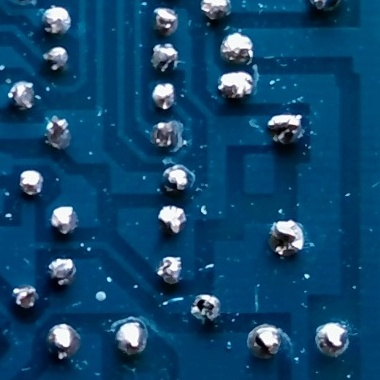?: (269, 112, 306, 149), (47, 258, 78, 288), (165, 161, 195, 189)
drag: (316, 321, 351, 355), (152, 38, 181, 74), (155, 204, 188, 235), (44, 116, 72, 152), (154, 6, 181, 36), (15, 284, 39, 309)
little: (270, 217, 307, 255), (148, 119, 184, 151), (192, 294, 222, 325), (157, 255, 185, 284), (198, 0, 232, 20)
norm: (45, 322, 82, 363), (115, 319, 149, 355), (251, 326, 285, 357), (8, 81, 37, 114), (44, 5, 72, 37), (150, 83, 179, 113), (19, 169, 45, 195)
tip: (219, 30, 254, 63), (218, 71, 255, 99), (50, 205, 78, 237), (40, 46, 68, 71), (0, 310, 2, 344)
